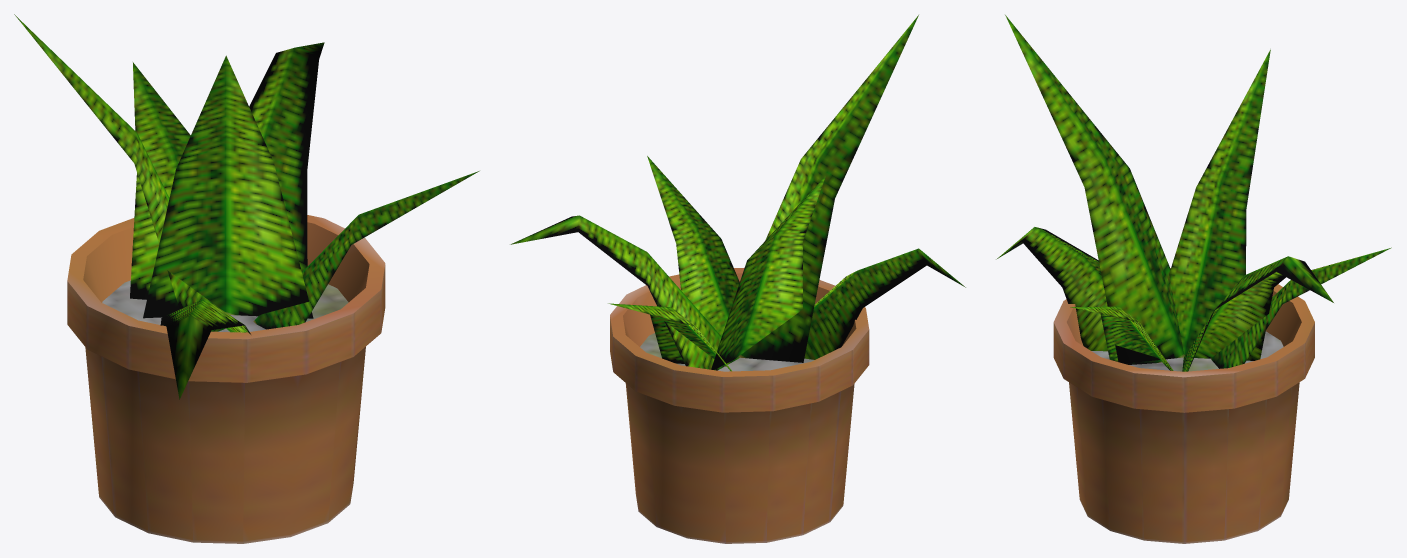
The model's file is teen39.gltf.
3 renders of one model, left to right at view 1: azimuth 30°, elevation 25°; view 2: azimuth 150°, elevation 25°; view 3: azimuth 270°, elevation 25°, orthographic. The views are drawn at different scales.
Parts seen in each view (by area): view 1: teen39; view 2: teen39; view 3: teen39.
Part boxes in pixels (box(x1,y1,x2,y2)): teen39: box(14, 14, 479, 543); teen39: box(510, 15, 965, 543); teen39: box(996, 15, 1391, 543).
Bounding box in the file's own units: 25.42 × 37.31 × 30.39.
2 materials, 2 textured.
